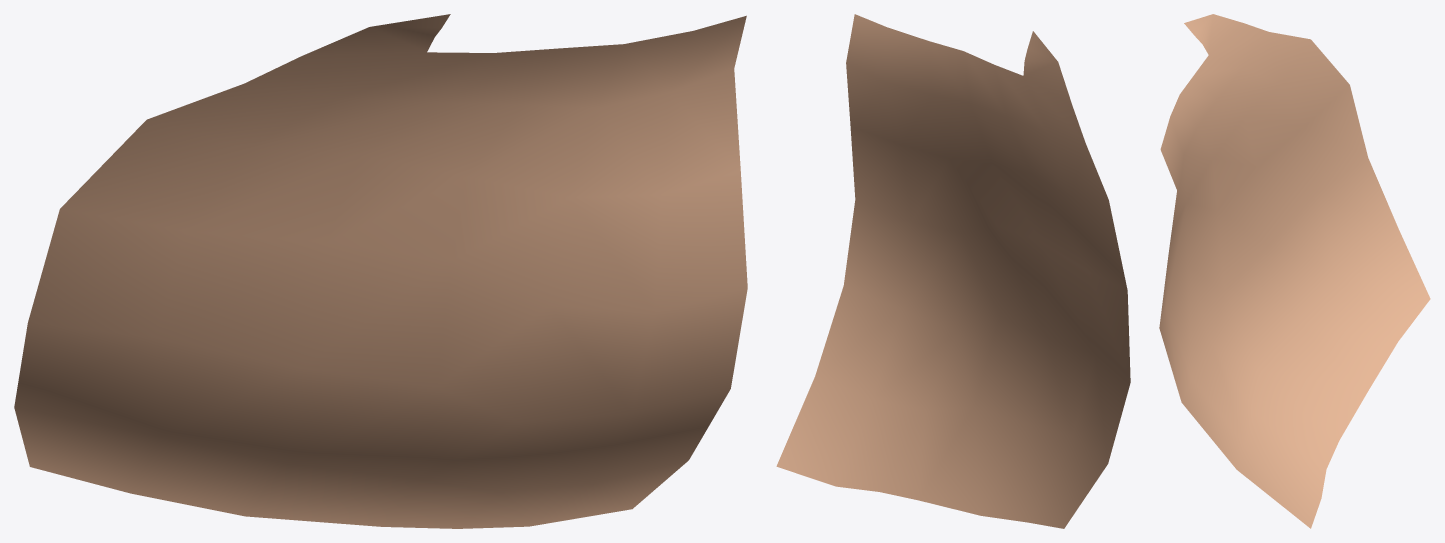
Rendered from mental-region-r.glb.
The picture shows the model from 3 angles, left to right: view 1: azimuth 30°, elevation 25°; view 2: azimuth 150°, elevation 25°; view 3: azimuth 270°, elevation 25°; orthographic projection. The views are drawn at different scales.
Parts seen in each view (by area): view 1: Mental region.r; view 2: Mental region.r; view 3: Mental region.r.
Part boxes in pixels (<box>): Mental region.r: <box>14,14,747,528</box>; Mental region.r: <box>776,14,1130,528</box>; Mental region.r: <box>1159,14,1430,528</box>.
Bounding box in the file's own units: 0.0251 × 0.0271 × 0.016.
